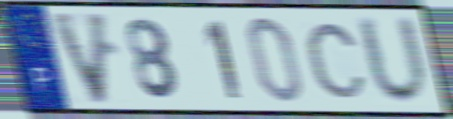0: (244, 15, 305, 106)
1: (203, 19, 243, 101)
8: (125, 17, 178, 101)
C: (303, 20, 369, 101)
U: (352, 13, 433, 109)
V: (46, 9, 113, 108)
